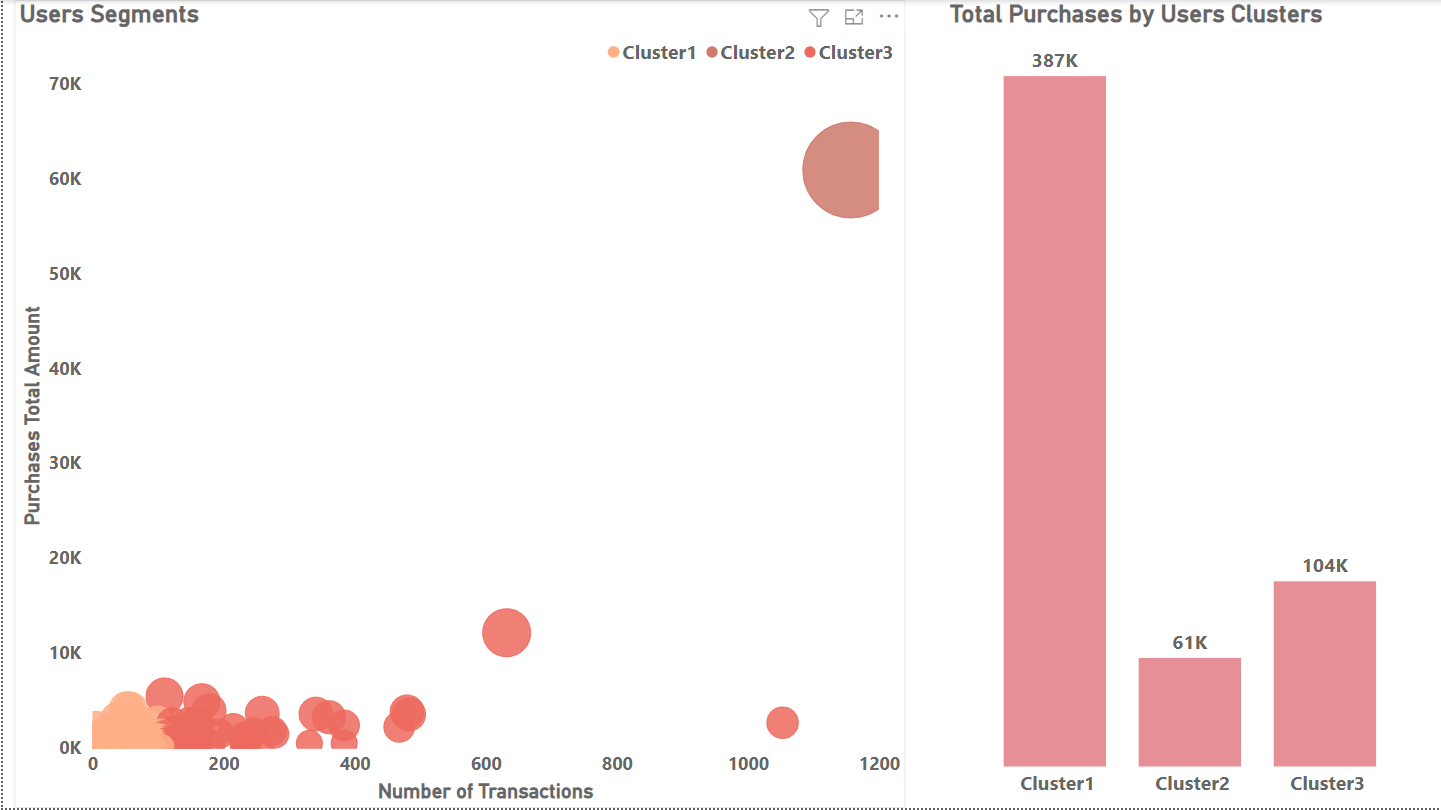

This screenshot's page, from the dashboard's own definition file:
{"tool":"powerbi","page":{"name":"Users Segments","canvas":[1280,720],"ordinal":0},"visuals":[{"type":"scatterChart","title":"Users Segments","fields":{"X":["CountNonNull(UsersTransactions.amount)"],"Category":["UsersTransactions.userid"],"Y":["UsersTransactions.Total Purchases"],"Size":["Sum(UsersTransactions.amount)"],"Series":["UsersTransactions.userid (clusters)"]},"box":[9.6,0,793.8,719.7],"z":0},{"type":"clusteredColumnChart","title":"Total Purchases by Users Clusters","fields":{"Category":["UsersTransactions.userid (clusters)"],"Y":["UsersTransactions.Total Purchases"]},"box":[837.8,0,442.2,719.7],"z":1000}]}

Visuals, with their boxes in screenshot pixels (x1, y1, x2, y2), scaled from the page's 1280x720 canvas onto the 1441x810 screenshot:
"Users Segments" scatterChart: (x1=11, y1=0, x2=904, y2=809)
"Total Purchases by Users Clusters" clusteredColumnChart: (x1=943, y1=0, x2=1440, y2=809)
